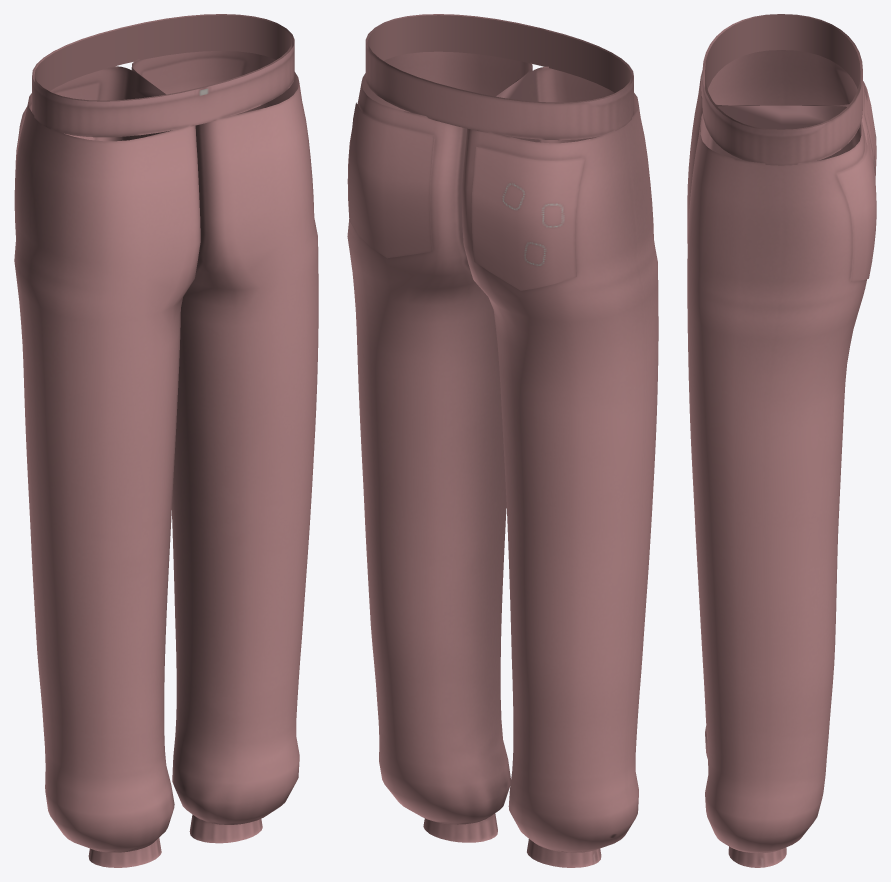
The model's file is lowr_000.fbx.
The picture shows the model from 3 angles, left to right: view 1: azimuth 30°, elevation 25°; view 2: azimuth 150°, elevation 25°; view 3: azimuth 270°, elevation 25°; orthographic projection. The views are drawn at different scales.
Visible parts, largest first — view 1: lowr_000; view 2: lowr_000; view 3: lowr_000.
Part boxes in pixels (box(x1,y1,x2,y2)): lowr_000: box(14, 14, 318, 867); lowr_000: box(347, 14, 658, 867); lowr_000: box(687, 14, 876, 867).
Size of the model in its own units: 36.85 by 99.65 by 22.63.
